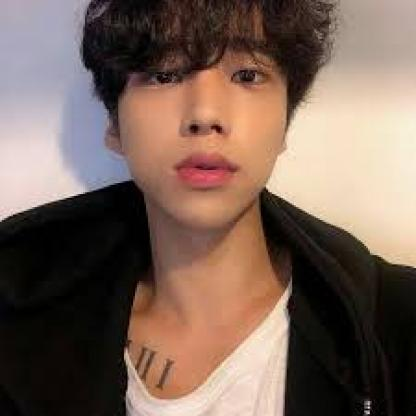person: (82, 0, 327, 218)
